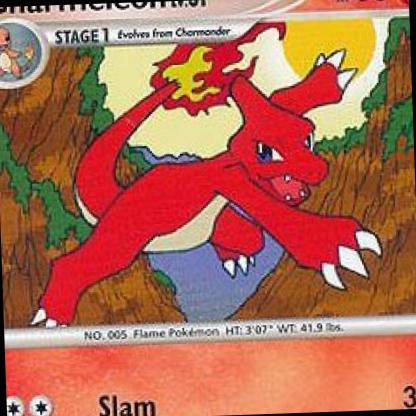Charmeleon: (1, 1, 410, 416)
